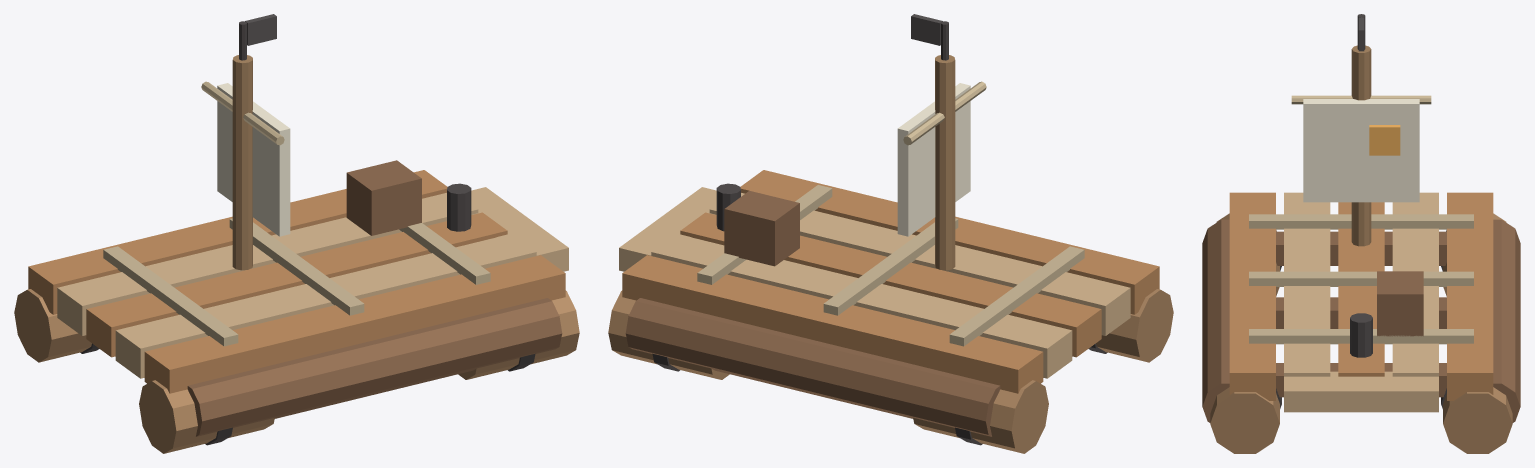
Rendered from Jack_Raft.fbx.
3 renders of one model, left to right at view 1: azimuth 30°, elevation 25°; view 2: azimuth 150°, elevation 25°; view 3: azimuth 270°, elevation 25°, orthographic. The views are drawn at different scales.
Parts seen in each view (by area): view 1: Jack_Raft; view 2: Jack_Raft; view 3: Jack_Raft.
Boxes of the visible parts, x1,y1,x2,y2 form: Jack_Raft: (14,14,579,453); Jack_Raft: (608,14,1173,453); Jack_Raft: (1202,14,1520,453).
Bounding box in the file's own units: 1.2 × 0.9204 × 0.82.
